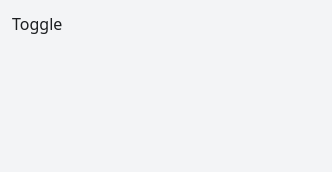
Scenario: Collapsible › Uncontrolled Mode › toggles content visibility on click
This screenshot has width=332, height=172.
Expected: the text "Visible Content" is not shown
What coordinates should you click on to do the following:
click the button "Toggle"
I would click on:
 (37, 24)
Its box is [12, 12, 62, 36].
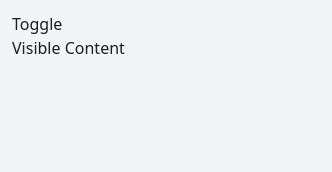
Now the text "Visible Content" is shown, box [12, 37, 125, 59]
What coordinates should you click on to do the following:
click the button "Toggle"
I would click on:
 (37, 24)
Its box is [12, 12, 62, 36].
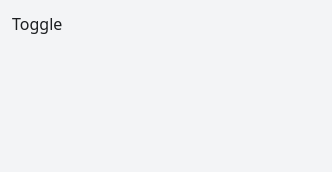
Now the text "Visible Content" is gone
